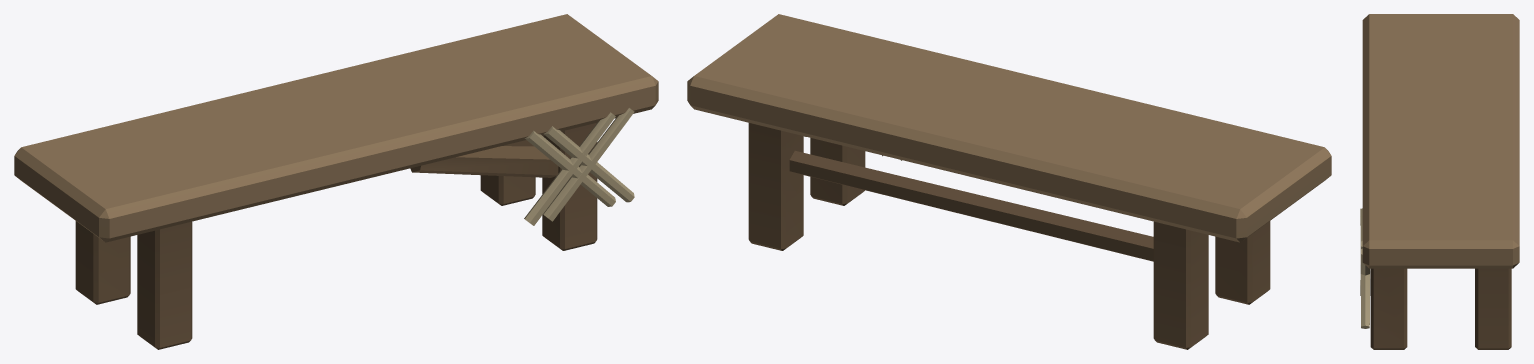
The model's file is bench_lashed.glb.
3 renders of one model, left to right at view 1: azimuth 30°, elevation 25°; view 2: azimuth 150°, elevation 25°; view 3: azimuth 270°, elevation 25°, orthographic. The views are drawn at different scales.
Visible parts, largest first — view 1: bench_lashed.018; view 2: bench_lashed.018; view 3: bench_lashed.018.
Part boxes in pixels (x1,y1,x2,y2): bench_lashed.018: (14,14,658,349); bench_lashed.018: (687,14,1331,349); bench_lashed.018: (1360,14,1519,349).
Bounding box in the file's own units: 2.1 × 0.56 × 0.6091.
